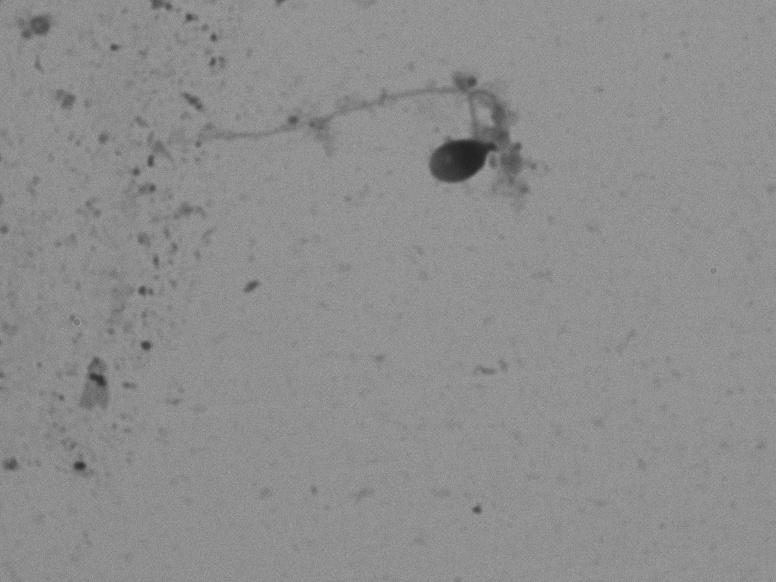Abnormal: (200, 62, 583, 229)
